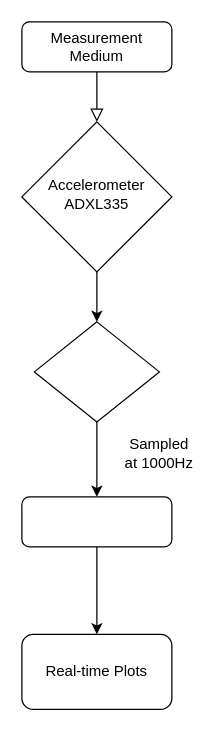
This 219x731 diagram has some shape labels left out. The shapes that lost their labels are listed below. From the top down, each one's box as (x1, y1, x2, y2) in pixels, then its label:
(33, 321, 159, 422): Arduino
(21, 496, 172, 547): IIR Filter on Python
